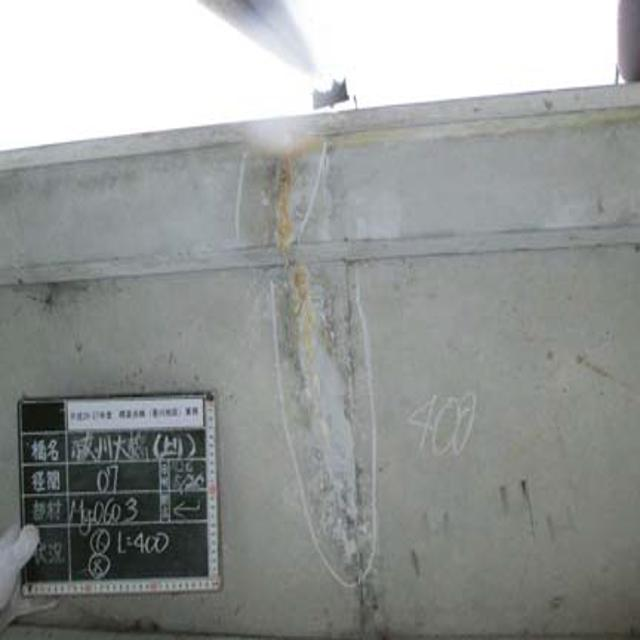freelime: (273, 150, 373, 551)
